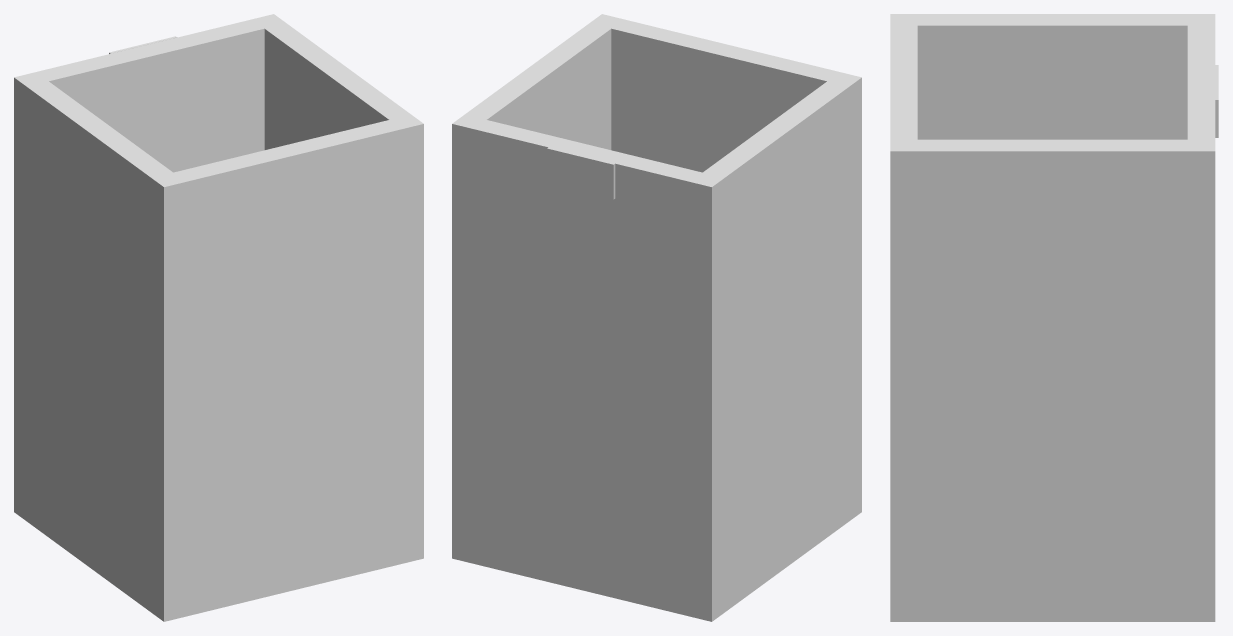
Rendered from Itr_Trashcan2_Body_01.FBX.
3 views of the same model, side by side, from view 1: azimuth 30°, elevation 25°; view 2: azimuth 150°, elevation 25°; view 3: azimuth 270°, elevation 25° (orthographic). The views are drawn at different scales.
Visible parts, largest first — view 1: Itr_Trashcan2_Body_01; view 2: Itr_Trashcan2_Body_01; view 3: Itr_Trashcan2_Body_01.
Part boxes in pixels (x1,y1,x2,y2): Itr_Trashcan2_Body_01: (14, 14, 423, 621); Itr_Trashcan2_Body_01: (452, 14, 861, 621); Itr_Trashcan2_Body_01: (890, 14, 1218, 621).
Bounding box in the file's own units: 14.85 × 23.74 × 15.01.
